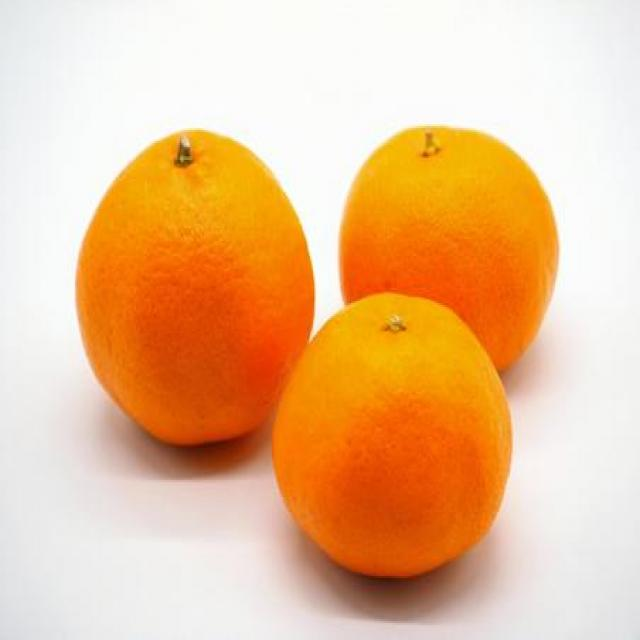Orange: (68, 125, 314, 448), (272, 294, 515, 578), (337, 128, 557, 374)
